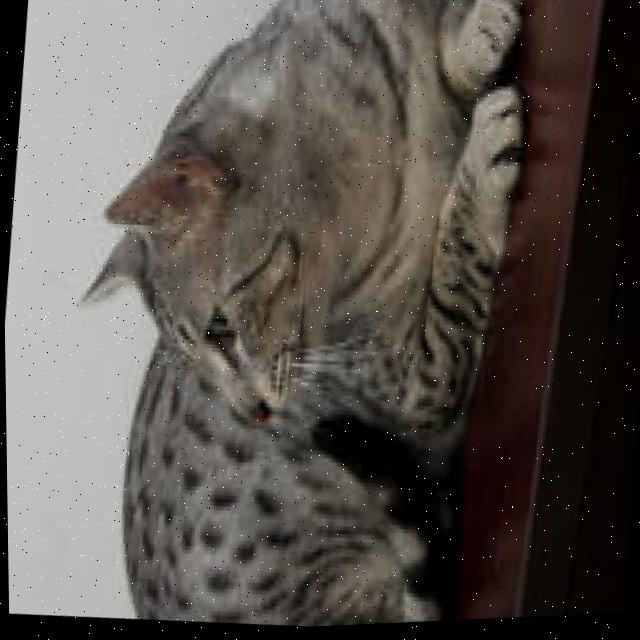Egyptian Mau: (38, 0, 543, 639)
